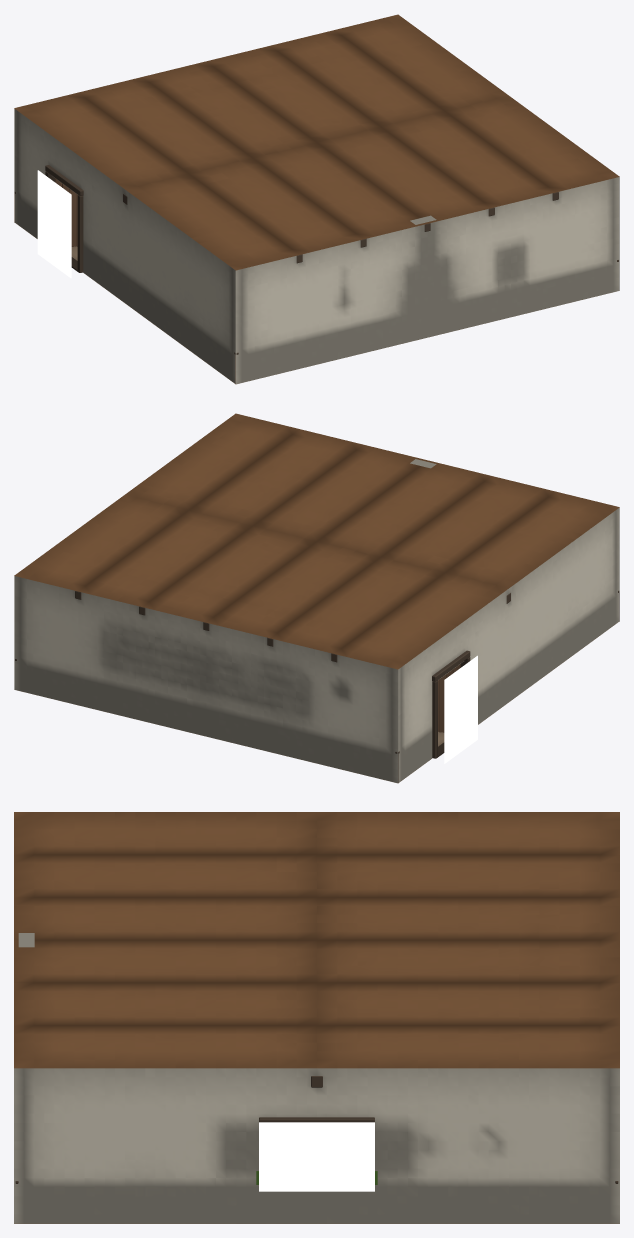
The model's file is bolicho.glb.
The picture shows the model from 3 angles, top to bottom: view 1: azimuth 30°, elevation 25°; view 2: azimuth 150°, elevation 25°; view 3: azimuth 270°, elevation 25°; orthographic projection. The views are drawn at different scales.
Parts seen in each view (by area): view 1: cenario, brilhos; view 2: cenario, brilhos; view 3: cenario, brilhos.
Boxes of the visible parts, left/top/right/bottom form: cenario: left=14, top=14, right=619, bottom=384; brilhos: left=37, top=170, right=71, bottom=278; cenario: left=14, top=413, right=619, bottom=783; brilhos: left=444, top=655, right=477, bottom=763; cenario: left=14, top=812, right=619, bottom=1223; brilhos: left=259, top=1122, right=374, bottom=1191.
Size of the model in its own units: 12.67 by 3.5 by 12.
